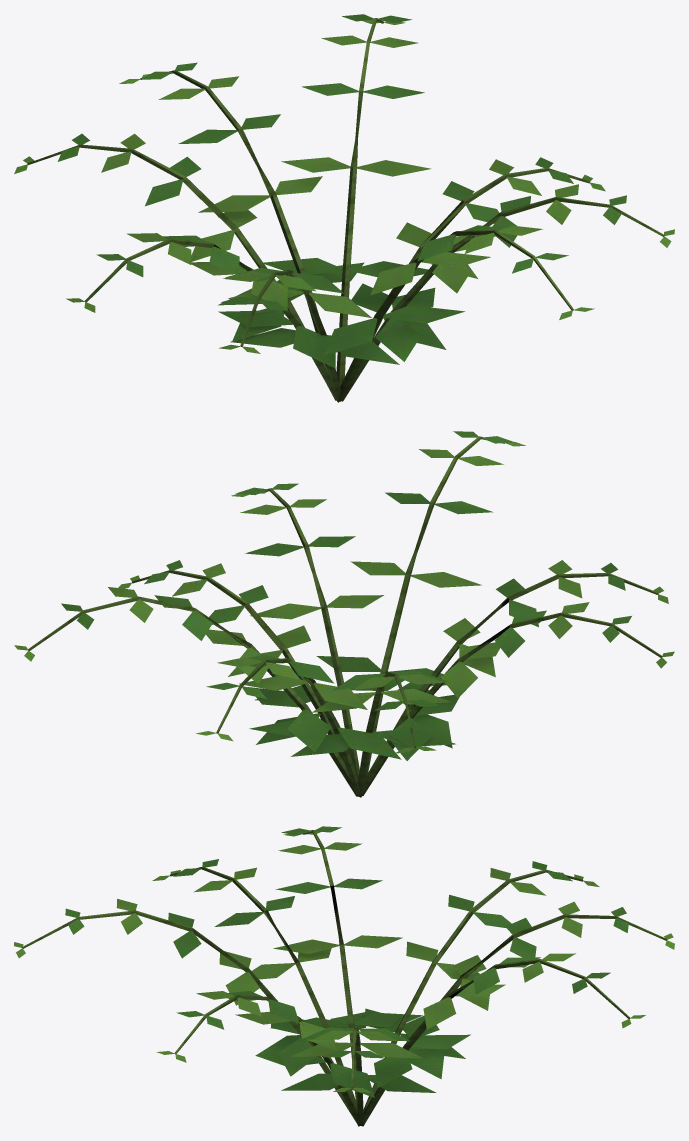
File: fern_idle.glb
3 renders of one model, top to bottom at view 1: azimuth 30°, elevation 25°; view 2: azimuth 150°, elevation 25°; view 3: azimuth 270°, elevation 25°, orthographic. The views are drawn at different scales.
Visible parts, largest first — view 1: fern; view 2: fern; view 3: fern.
Part boxes in pixels (<box>): fern: <box>14,14,674,402</box>; fern: <box>14,431,674,797</box>; fern: <box>14,826,674,1126</box>.
Size of the model in its own units: 0.8405 by 0.3775 by 0.9996.
1 material, 1 textured.
